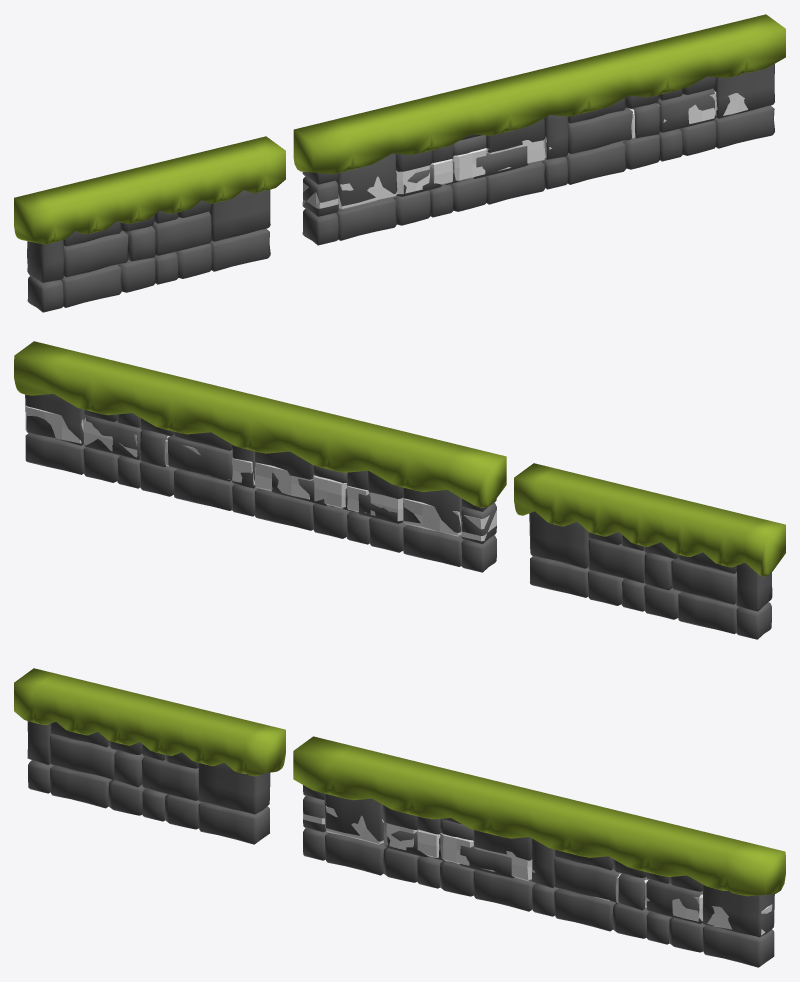
File: Ground3Small.fbx
3 renders of one model, top to bottom at view 1: azimuth 30°, elevation 25°; view 2: azimuth 150°, elevation 25°; view 3: azimuth 330°, elevation 25°, orthographic.
Visible parts, largest first — view 1: tasDuvar, grassGround, tasDuvar.001, grassGround.001, Cube.019, Cube.021, Cube.022, Cube.018; view 2: tasDuvar, grassGround, tasDuvar.001, grassGround.001, Cube.018, Cube.021, Cube.019, Cube.012, Cube.022; view 3: tasDuvar, grassGround, tasDuvar.001, grassGround.001, Cube.019, Cube.018, Cube.021, Cube.022, Cube.020.
Boxes of the visible parts, x1=… form: tasDuvar: x1=302, y1=64, x2=774, y2=245; grassGround: x1=293, y1=14, x2=785, y2=174; tasDuvar.001: x1=27, y1=190, x2=270, y2=312; grassGround.001: x1=14, y1=136, x2=285, y2=244; Cube.019: x1=452, y1=148, x2=486, y2=181; Cube.021: x1=338, y1=170, x2=397, y2=210; Cube.022: x1=396, y1=165, x2=430, y2=194; Cube.018: x1=487, y1=139, x2=545, y2=170; tasDuvar: x1=25, y1=394, x2=496, y2=572; grassGround: x1=14, y1=341, x2=506, y2=507; tasDuvar.001: x1=529, y1=511, x2=772, y2=639; grassGround.001: x1=514, y1=463, x2=785, y2=576; Cube.018: x1=255, y1=462, x2=312, y2=499; Cube.021: x1=403, y1=498, x2=461, y2=536; Cube.019: x1=313, y1=474, x2=346, y2=508; Cube.012: x1=25, y1=405, x2=83, y2=443; Cube.022: x1=369, y1=492, x2=403, y2=521; tasDuvar: x1=303, y1=785, x2=774, y2=967; grassGround: x1=293, y1=736, x2=785, y2=896; tasDuvar.001: x1=27, y1=721, x2=270, y2=844; grassGround.001: x1=14, y1=668, x2=285, y2=776; Cube.019: x1=440, y1=833, x2=473, y2=865; Cube.018: x1=473, y1=842, x2=532, y2=881; Cube.021: x1=325, y1=806, x2=383, y2=845; Cube.022: x1=383, y1=821, x2=417, y2=850; Cube.020: x1=417, y1=829, x2=440, y2=857.
Bounding box in the file's own units: 5514 × 750 × 254.
